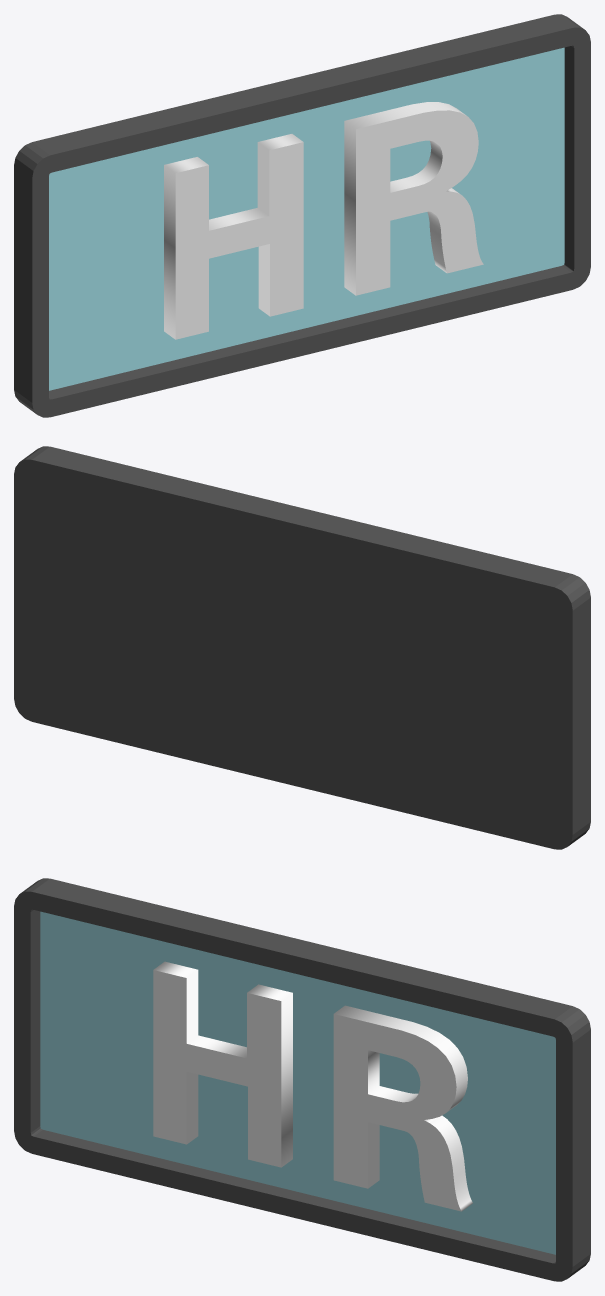
The model's file is menpai_2.FBX.
3 views of the same model, one above another, from view 1: azimuth 30°, elevation 25°; view 2: azimuth 150°, elevation 25°; view 3: azimuth 330°, elevation 25° (orthographic).
Parts seen in each view (by area): view 1: menpai_2; view 2: menpai_2; view 3: menpai_2.
Part boxes in pixels (x1,y1,x2,y2): menpai_2: (14,14,590,417); menpai_2: (14,446,590,849); menpai_2: (14,878,590,1281).
Size of the model in its own units: 32.08 by 14.37 by 2.01.
